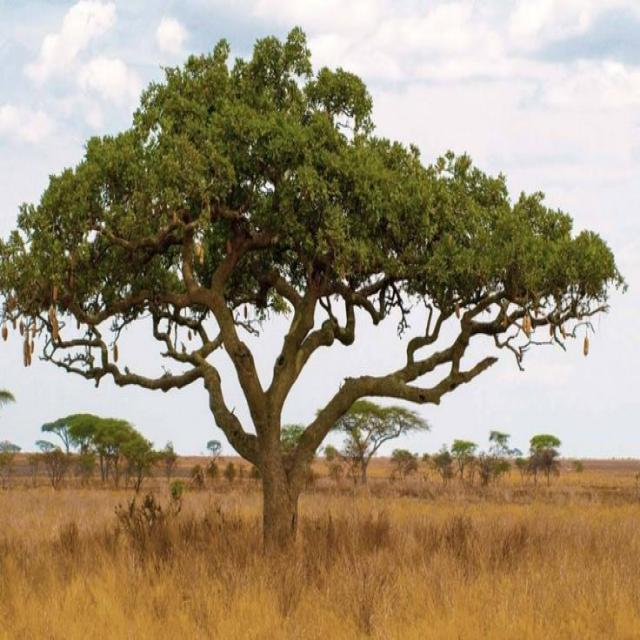Acacia: (29, 76, 590, 510)
